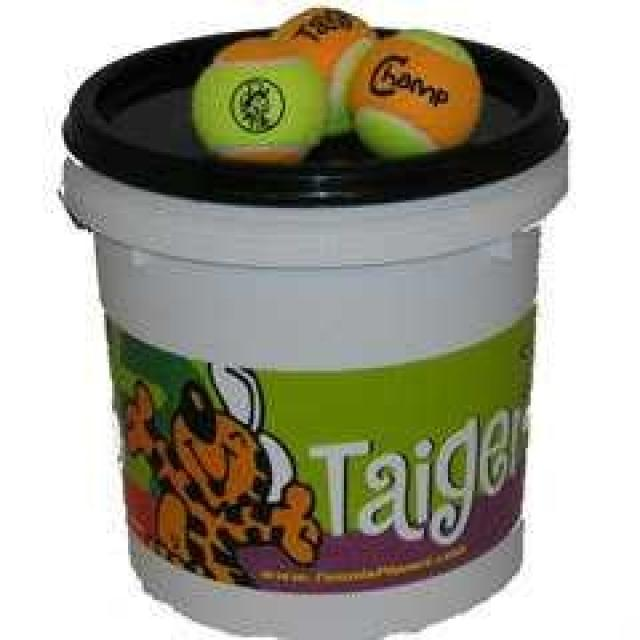Tennis_Ball: (190, 40, 328, 170), (362, 30, 488, 163), (280, 9, 370, 133)
